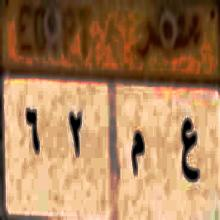2: (68, 101, 85, 157)
6: (23, 99, 42, 157)
ain: (176, 110, 200, 188)
meem: (129, 126, 145, 184)
